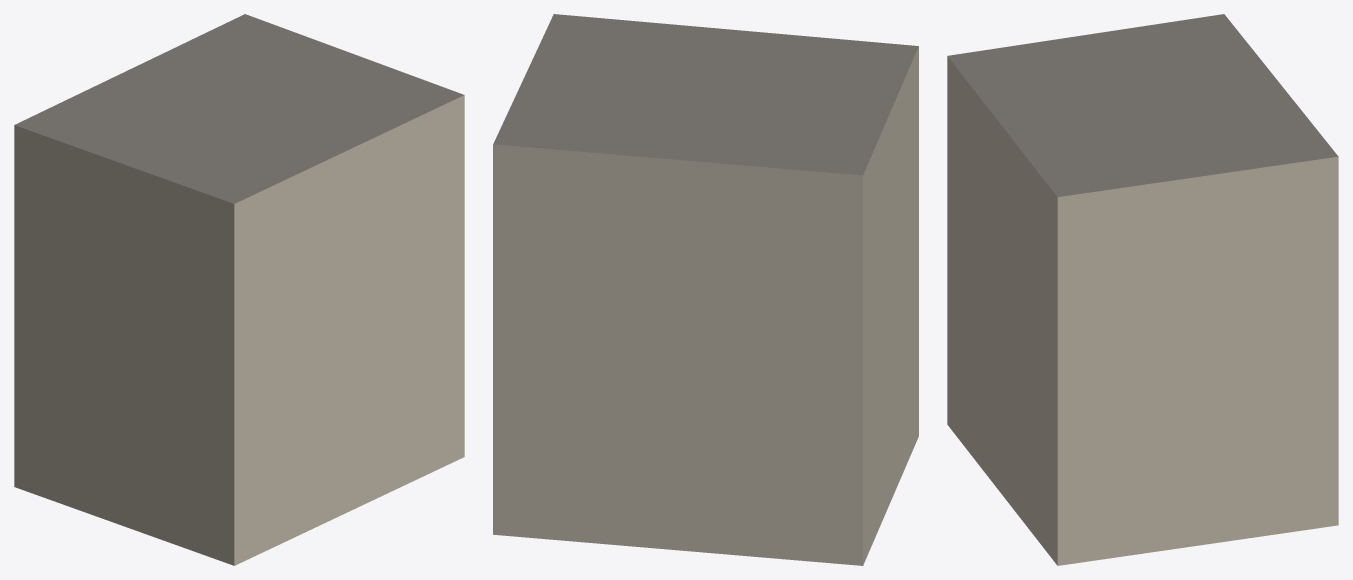
The picture shows the model from 3 angles, left to right: view 1: azimuth 30°, elevation 25°; view 2: azimuth 150°, elevation 25°; view 3: azimuth 270°, elevation 25°; orthographic projection. The views are drawn at different scales.
Visible parts, largest first — view 1: HP-w378107126; view 2: HP-w378107126; view 3: HP-w378107126.
Part boxes in pixels (x1=…): HP-w378107126: x1=14, y1=14, x2=464, y2=565; HP-w378107126: x1=493, y1=14, x2=918, y2=565; HP-w378107126: x1=947, y1=14, x2=1338, y2=565.
Bounding box in the file's own units: 19.18 × 18 × 17.31.
